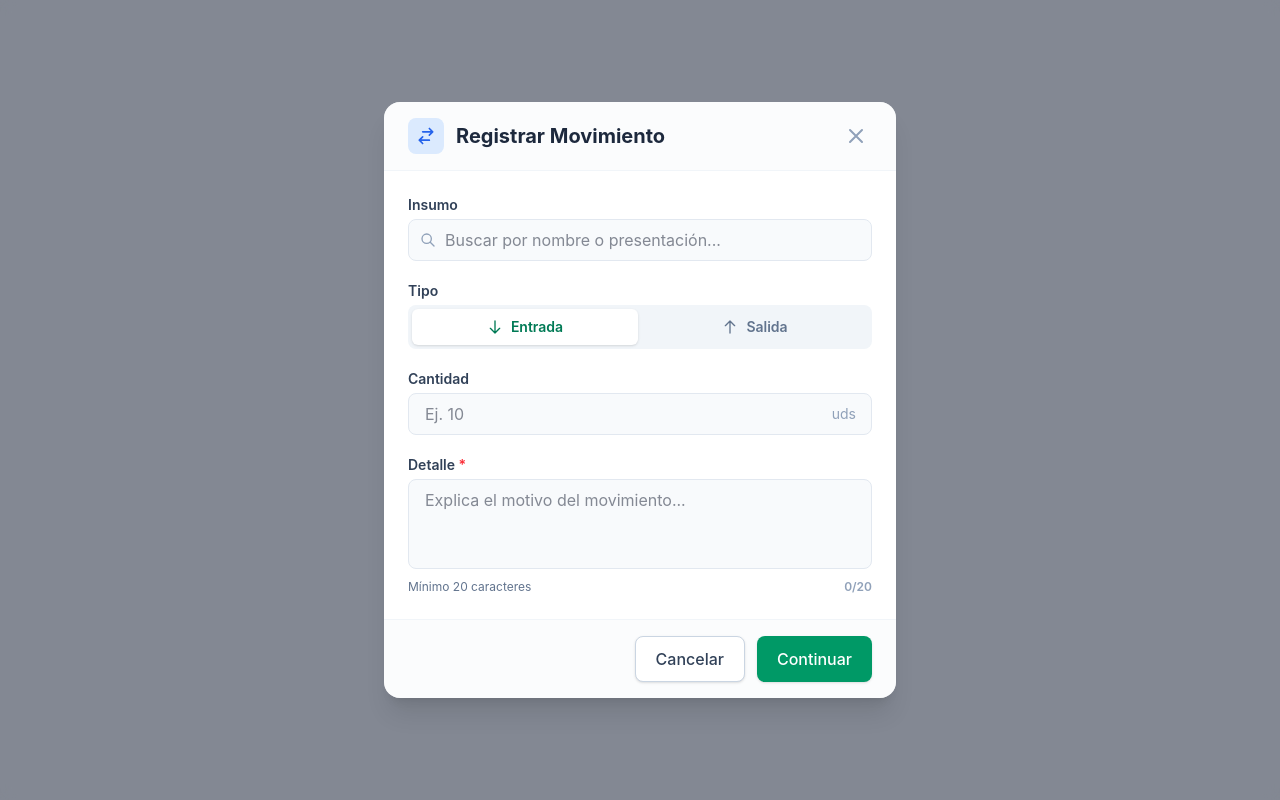
Test: MovimientoModal (registro de entradas y salidas) › proyecta el stock resultante al escribir una cantidad
The width and height of the screenshot is (1280, 800).
Type "gasa" into the dropdown at coordinates (640, 240), box top-left (408, 219), bottom-right (872, 261)
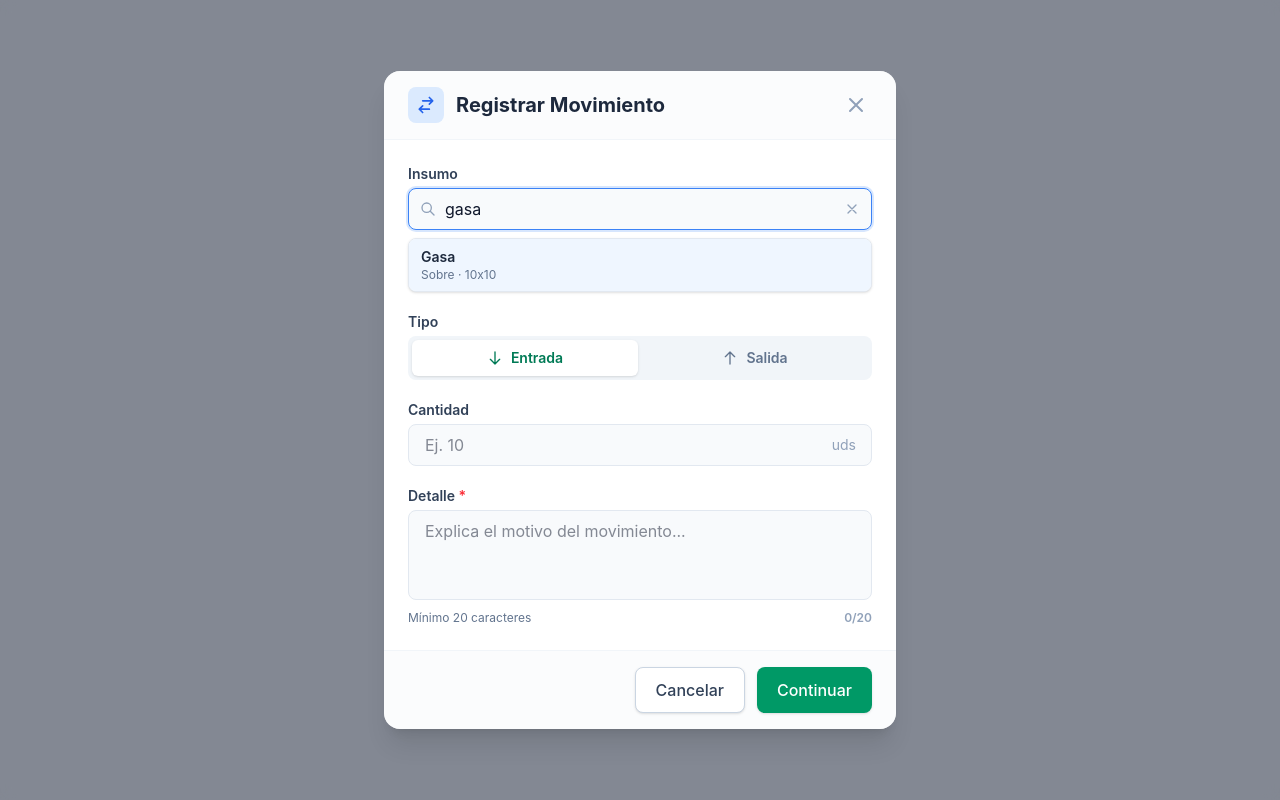
Click the option "Gasa Sobre · 10x10" at coordinates (438, 256), box top-left (409, 239), bottom-right (871, 291)
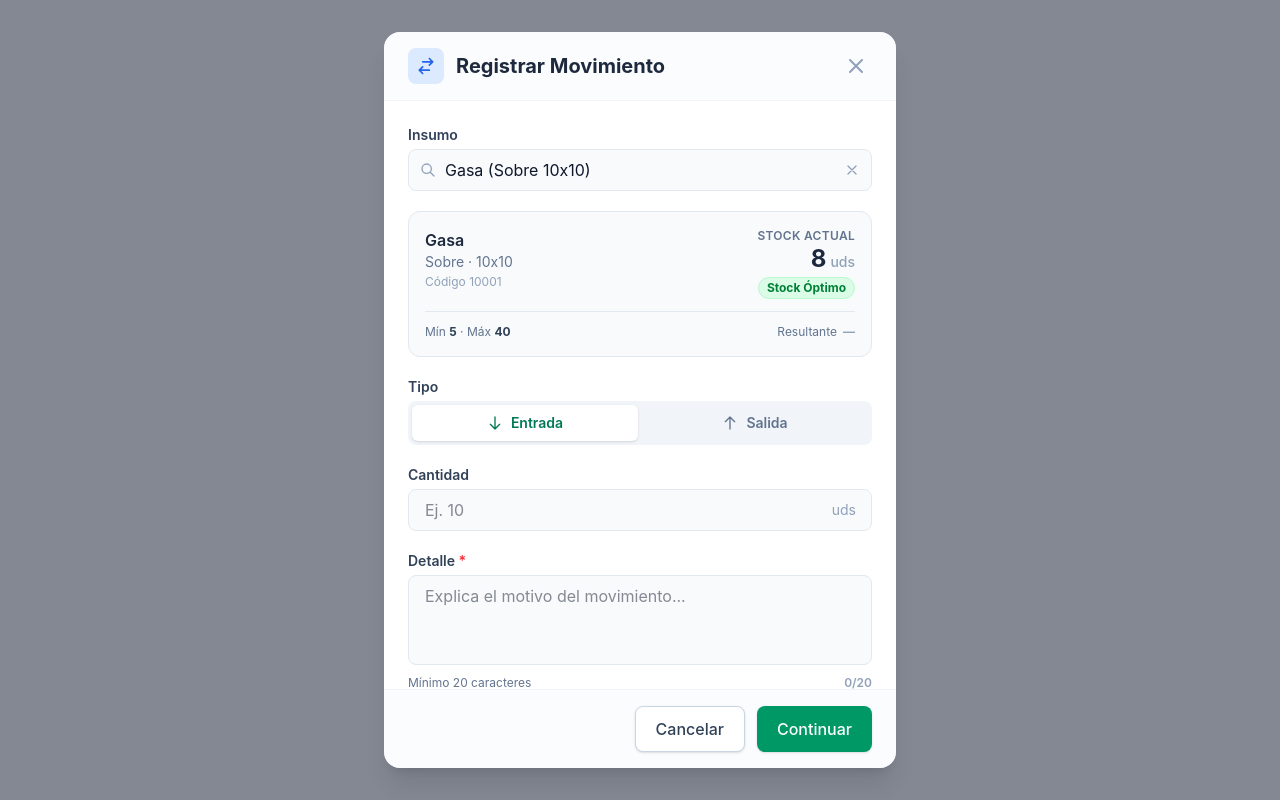
Type "4" into the number field at coordinates (640, 510), box top-left (408, 489), bottom-right (872, 531)
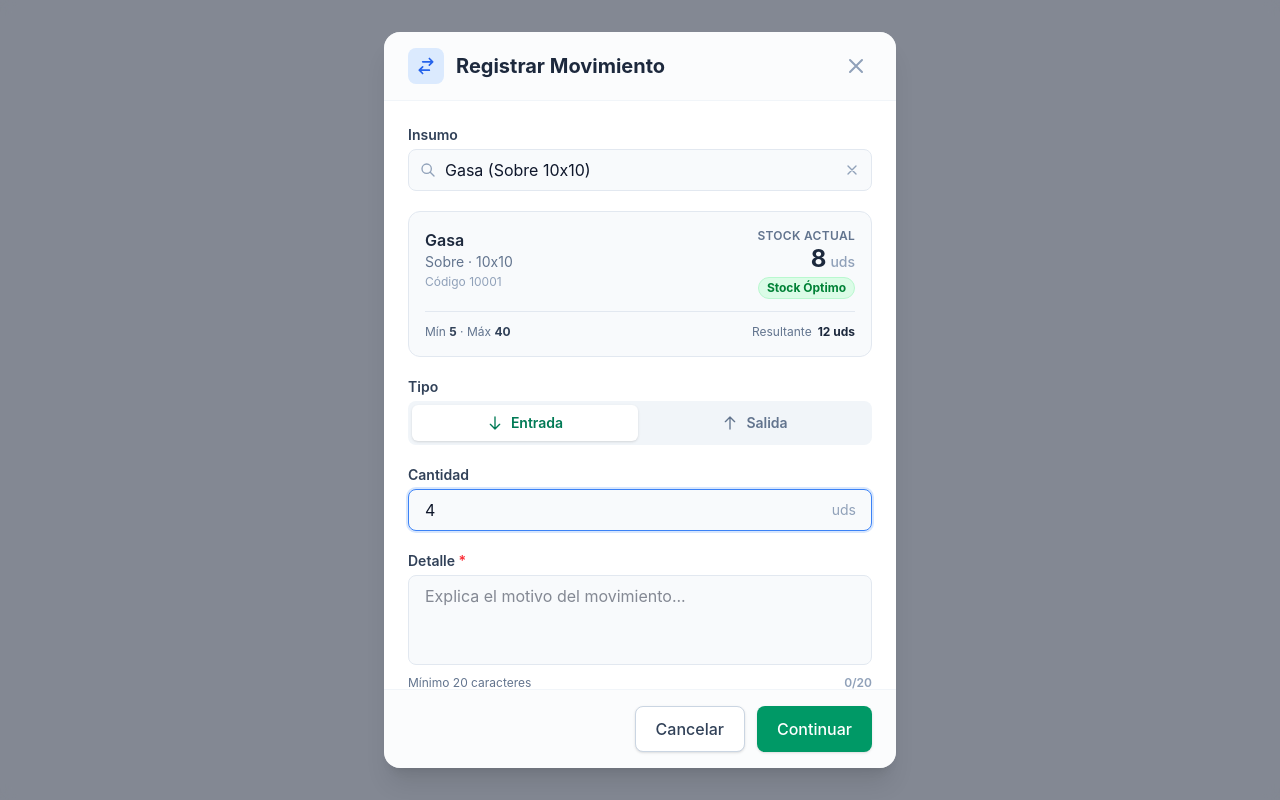
expect the text "12 uds" is shown: met, box top-left (818, 324), bottom-right (855, 340)
